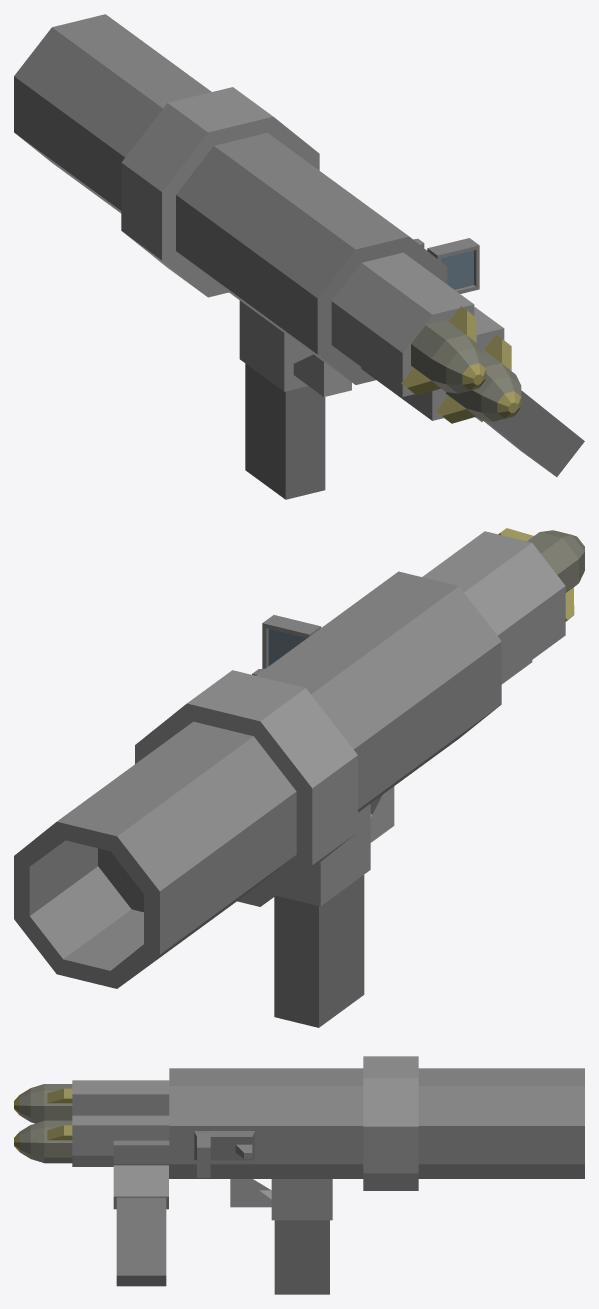
File: rocketlauncherModernRotating.glb
3 renders of one model, top to bottom at view 1: azimuth 30°, elevation 25°; view 2: azimuth 150°, elevation 25°; view 3: azimuth 270°, elevation 25°, orthographic. The views are drawn at different scales.
Parts seen in each view (by area): view 1: rocketlauncherModernRotating; view 2: rocketlauncherModernRotating; view 3: rocketlauncherModernRotating.
Boxes of the visible parts, x1,y1,x2,y2 form: rocketlauncherModernRotating: [14, 14, 584, 499]; rocketlauncherModernRotating: [14, 528, 584, 1027]; rocketlauncherModernRotating: [14, 1056, 584, 1294].
Size of the model in its own units: 0.0415 by 0.0528 by 0.1236.
